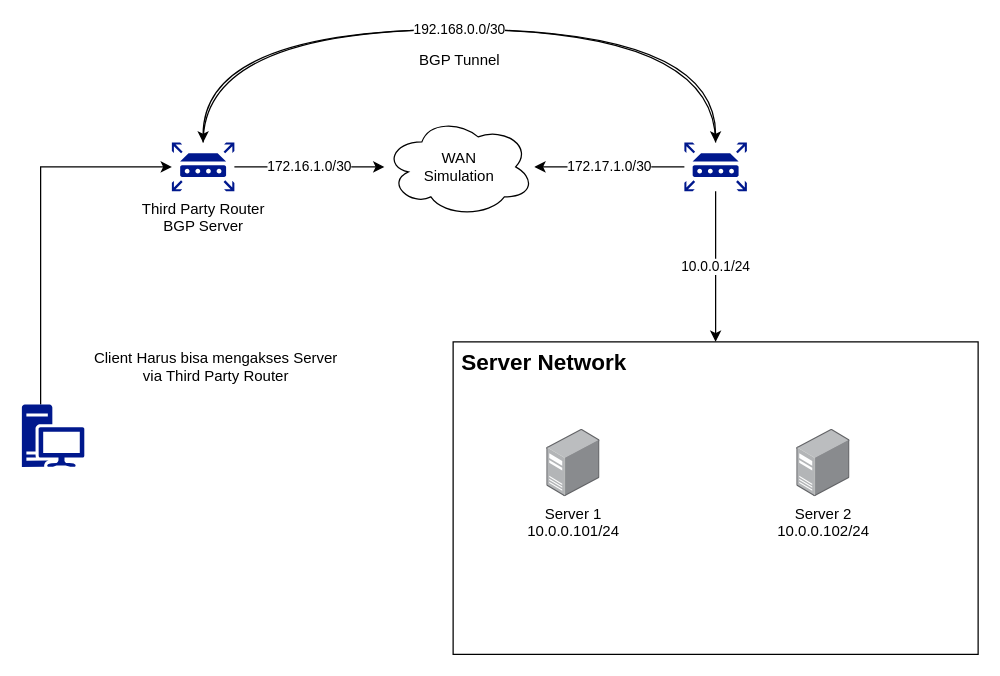
Image size: 1000x676. Some labels were removed from this diagram. Each missing label, with the centre of its shape:
"Client" goes at point (52, 435).
"Ogan Ilir Router" goes at point (715, 166).
